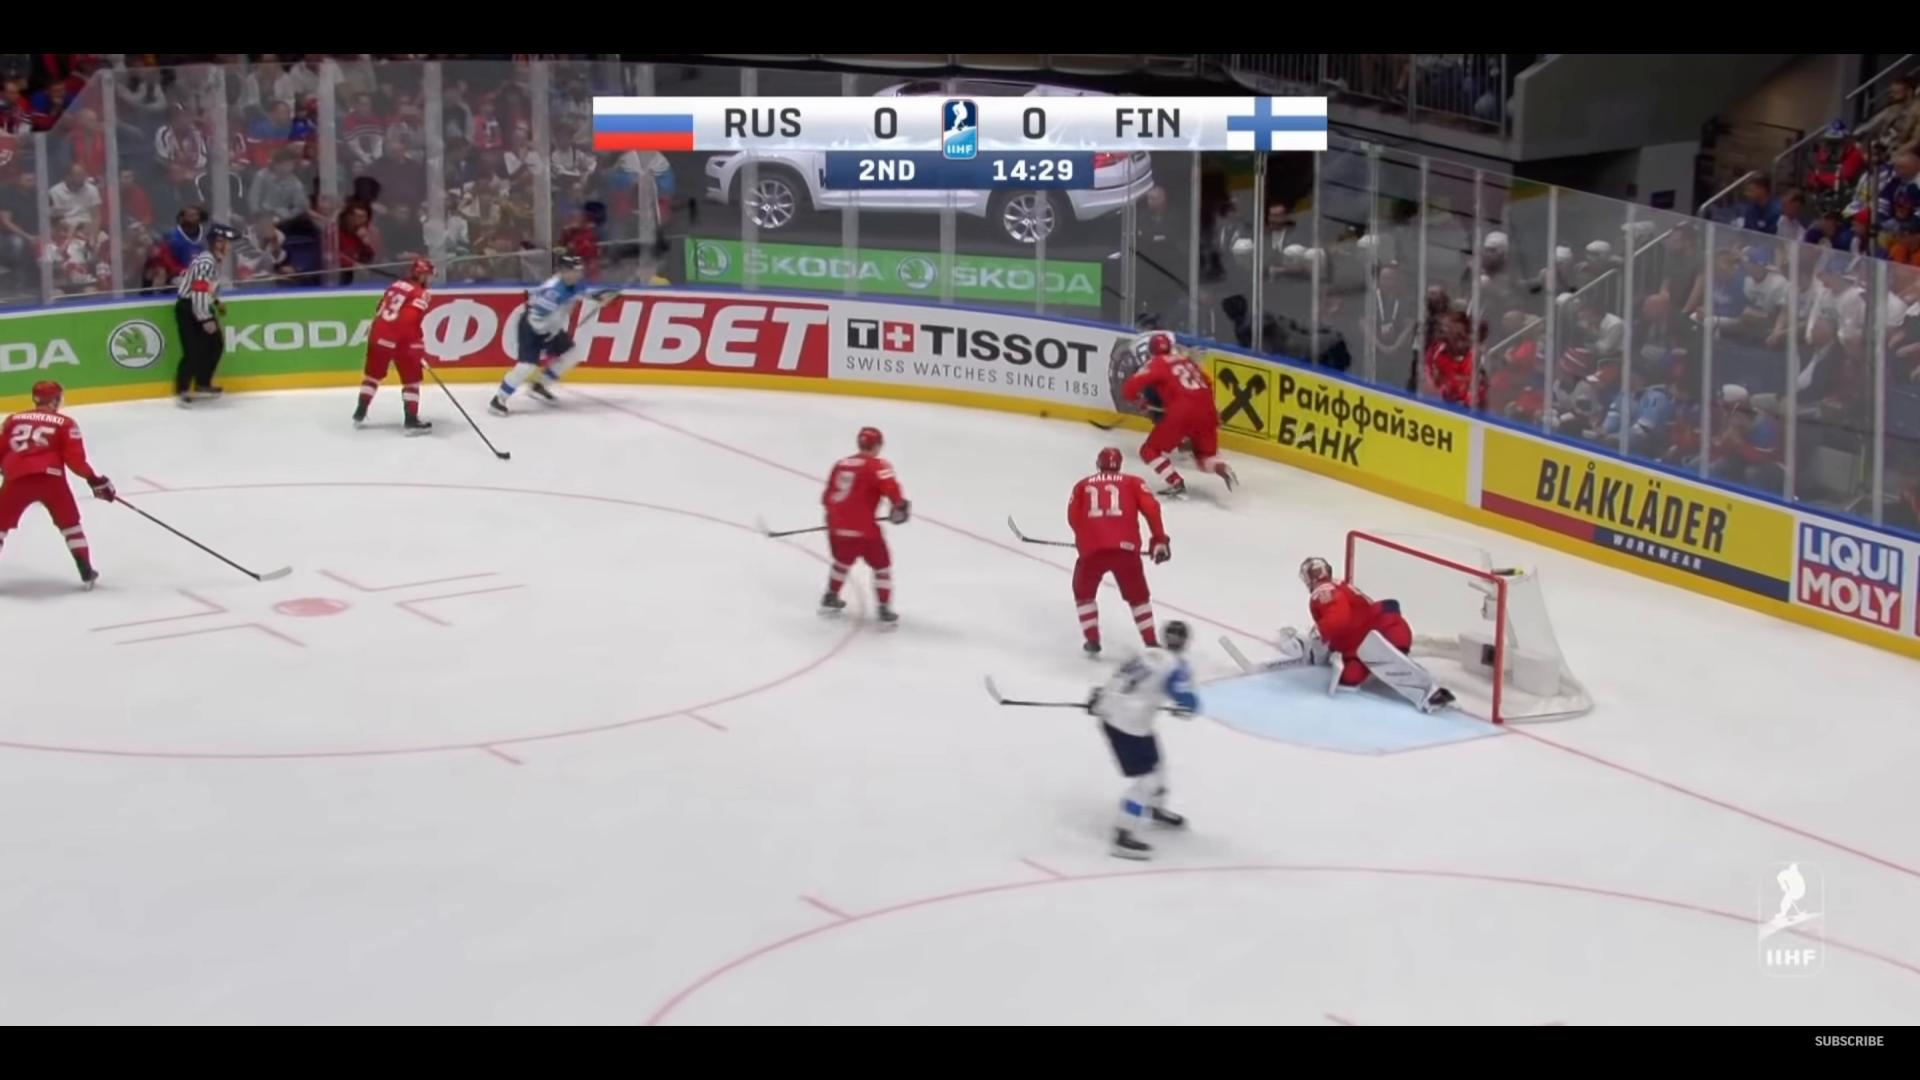puck: (1038, 409, 1048, 419)
